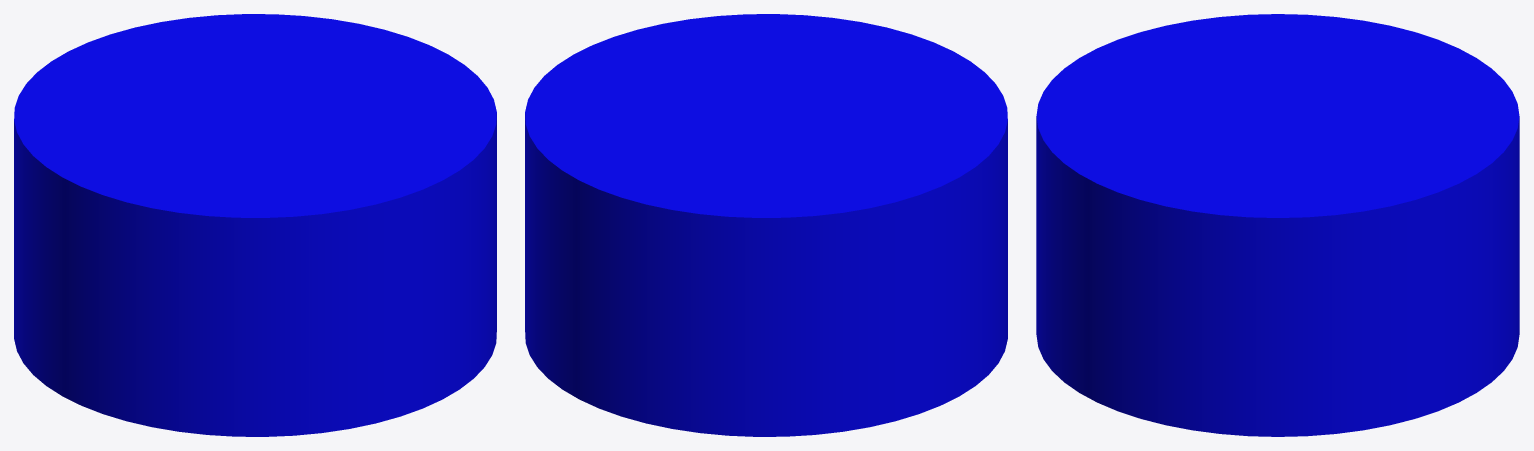
Rendered from marker.obj.
3 renders of one model, left to right at view 1: azimuth 30°, elevation 25°; view 2: azimuth 150°, elevation 25°; view 3: azimuth 270°, elevation 25°, orthographic.
Parts seen in each view (by area): view 1: |marker|Root|color; view 2: |marker|Root|color; view 3: |marker|Root|color.
Part boxes in pixels (x1,y1,x2,y2): |marker|Root|color: (14, 14, 496, 436); |marker|Root|color: (525, 14, 1007, 436); |marker|Root|color: (1036, 14, 1519, 436).
Size of the model in its own units: 0.05 by 0.025 by 0.05.
